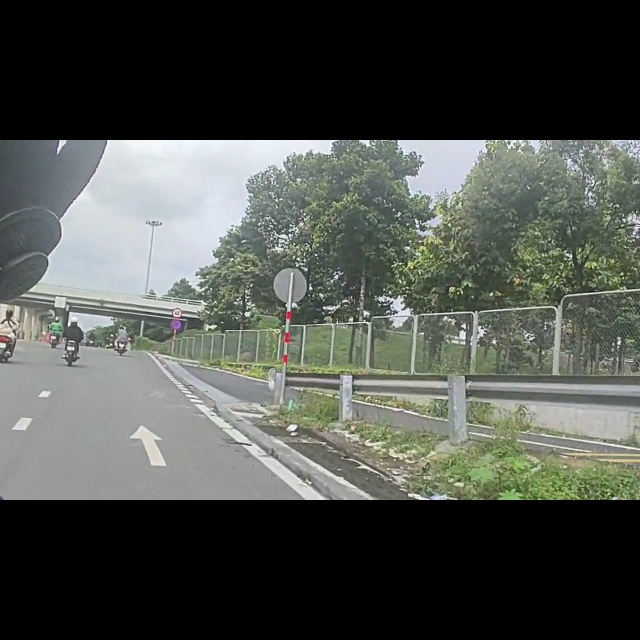bien_cam: (170, 319, 182, 339), (171, 297, 182, 316)
